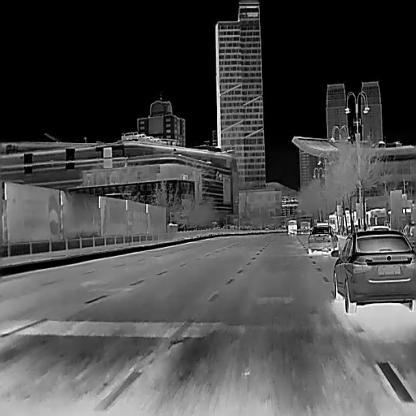car: (331, 228, 415, 313), (306, 224, 339, 255), (382, 207, 416, 230), (328, 211, 369, 230), (366, 208, 387, 229), (401, 220, 415, 246), (286, 218, 296, 235)
